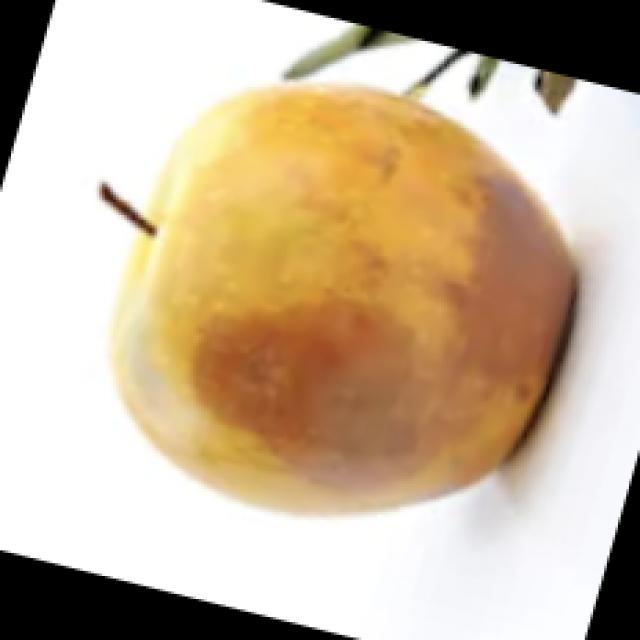Rotten: (112, 92, 558, 523)
